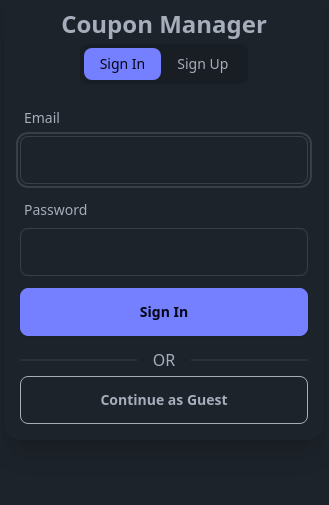
it: LoginForm › Tab Switching › should clear validation errors when switching tabs
The image size is (329, 505).
Click the button with test id "login-submit-button" at (164, 312), box [20, 288, 308, 336]
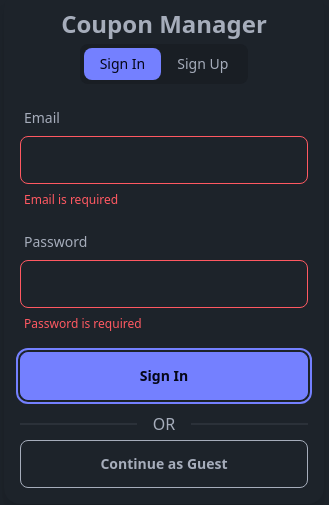
Check: the text "Email is required" is shown, box [24, 192, 118, 208]
Click the link "Sign Up" at (203, 64), box [177, 54, 228, 73]
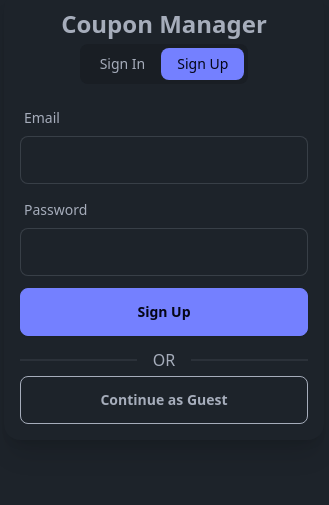
Check: the text "Email is required" is gone
